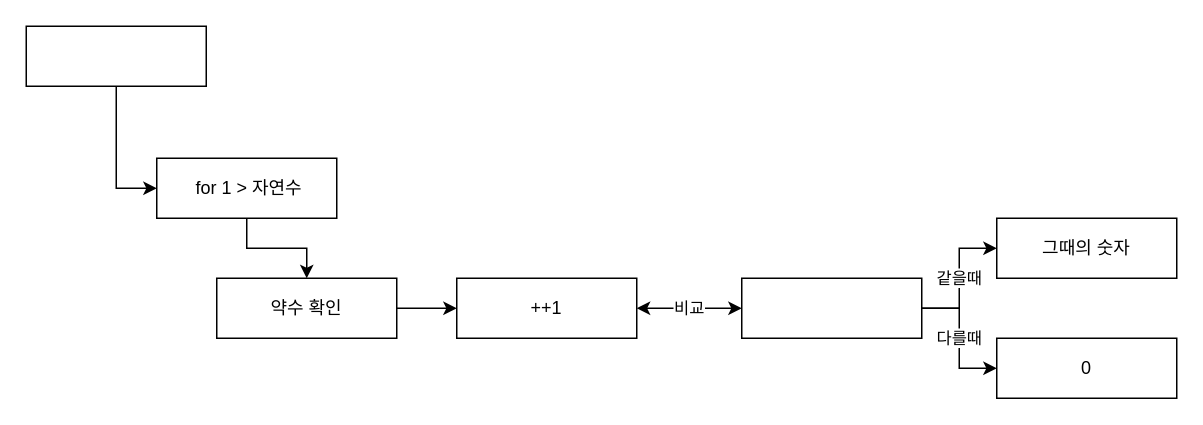
Image size: 1203x425. Some labels were removed from this diagram. Each missing label, with the centre of its shape:
"몇번째 수" belongs at pixel 831 307.
"자연수" belongs at pixel 115 55.
